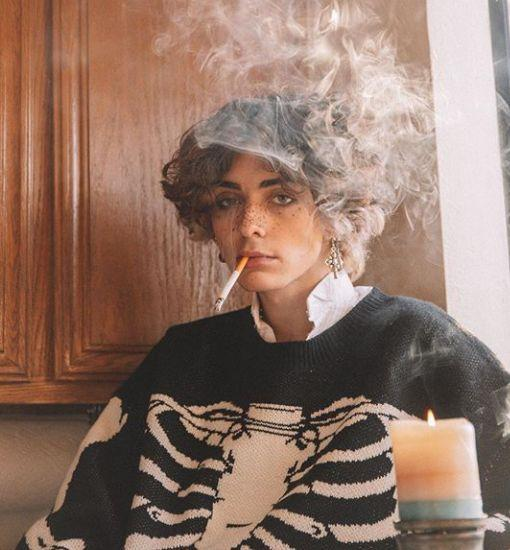cigarette: (215, 257, 249, 312)
